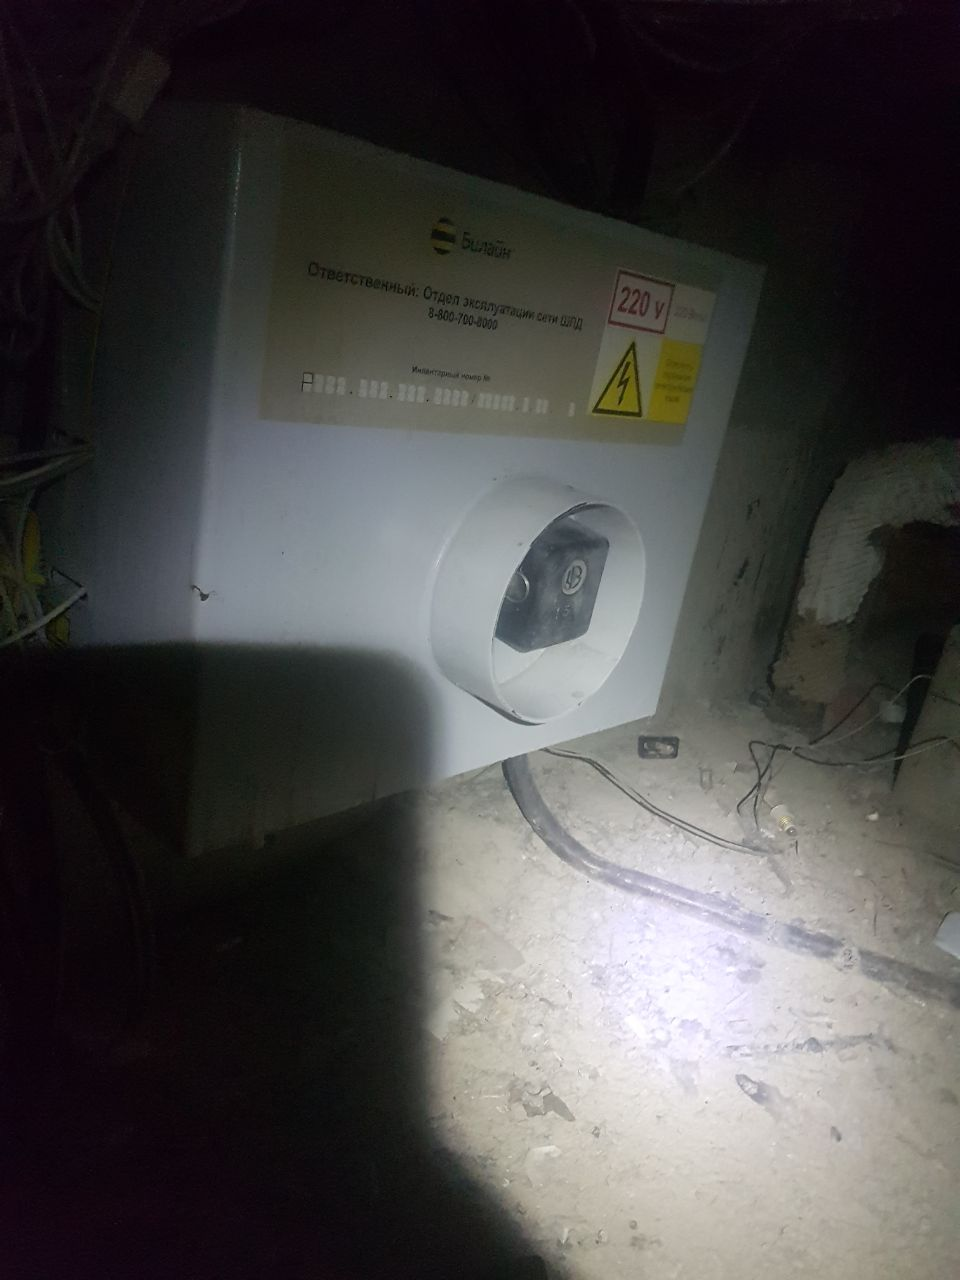shta-3: (23, 108, 775, 868)
